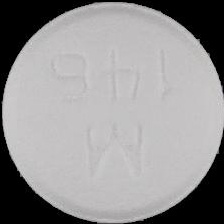0378-2146: (0, 0, 224, 224)
